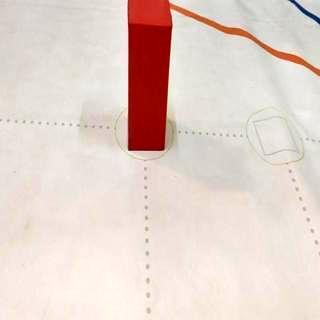redbox: (126, 0, 173, 151)
